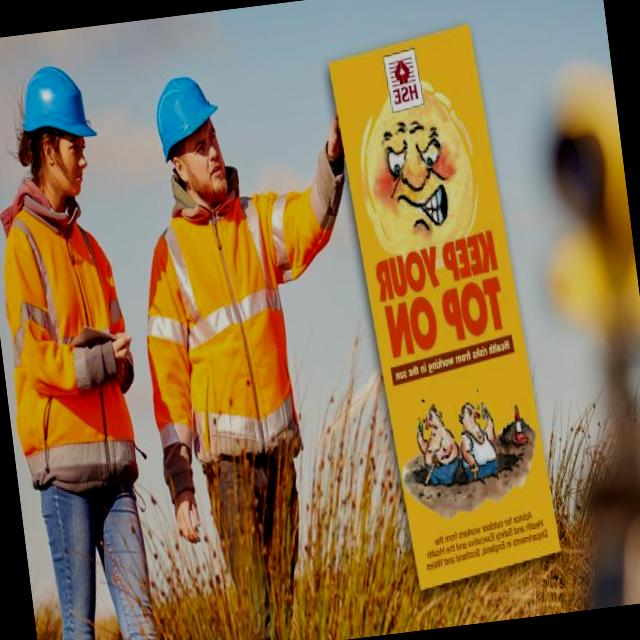helmet: (9, 52, 105, 154), (140, 72, 229, 170)
vest: (142, 169, 309, 517), (0, 203, 143, 518)
